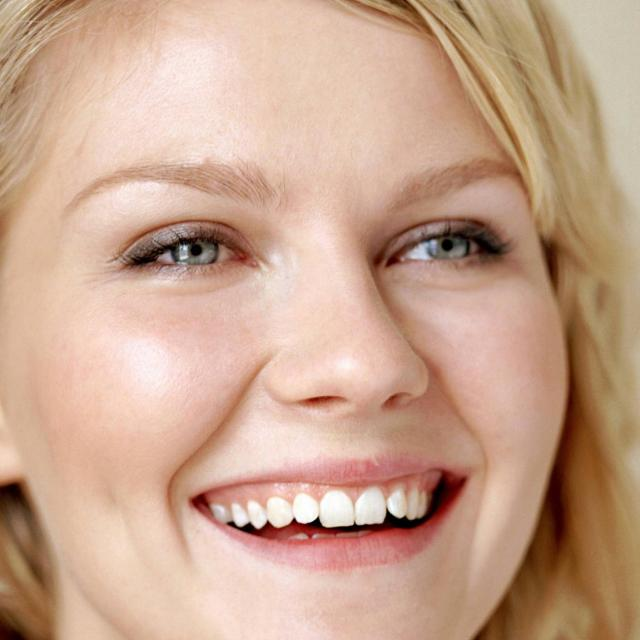Normal: (4, 0, 568, 639)
